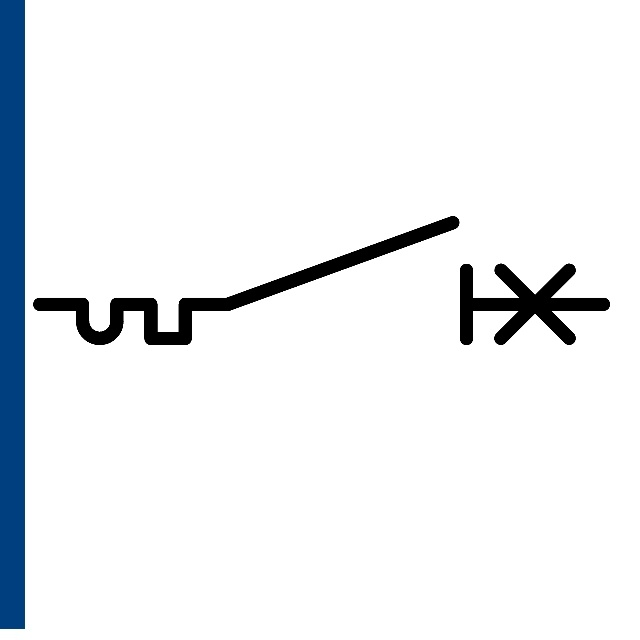interruptor_termomagnetico: (25, 208, 618, 353)
